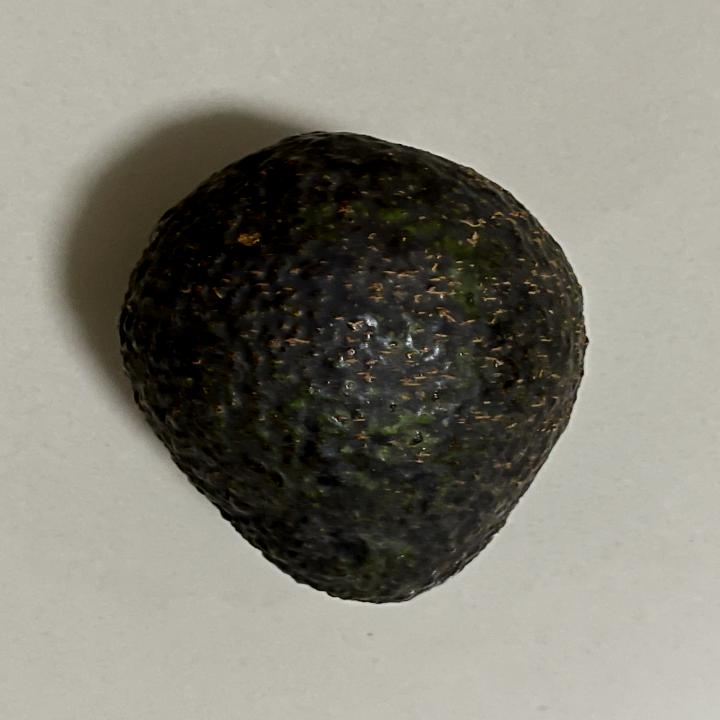Level2: (112, 123, 598, 608)
